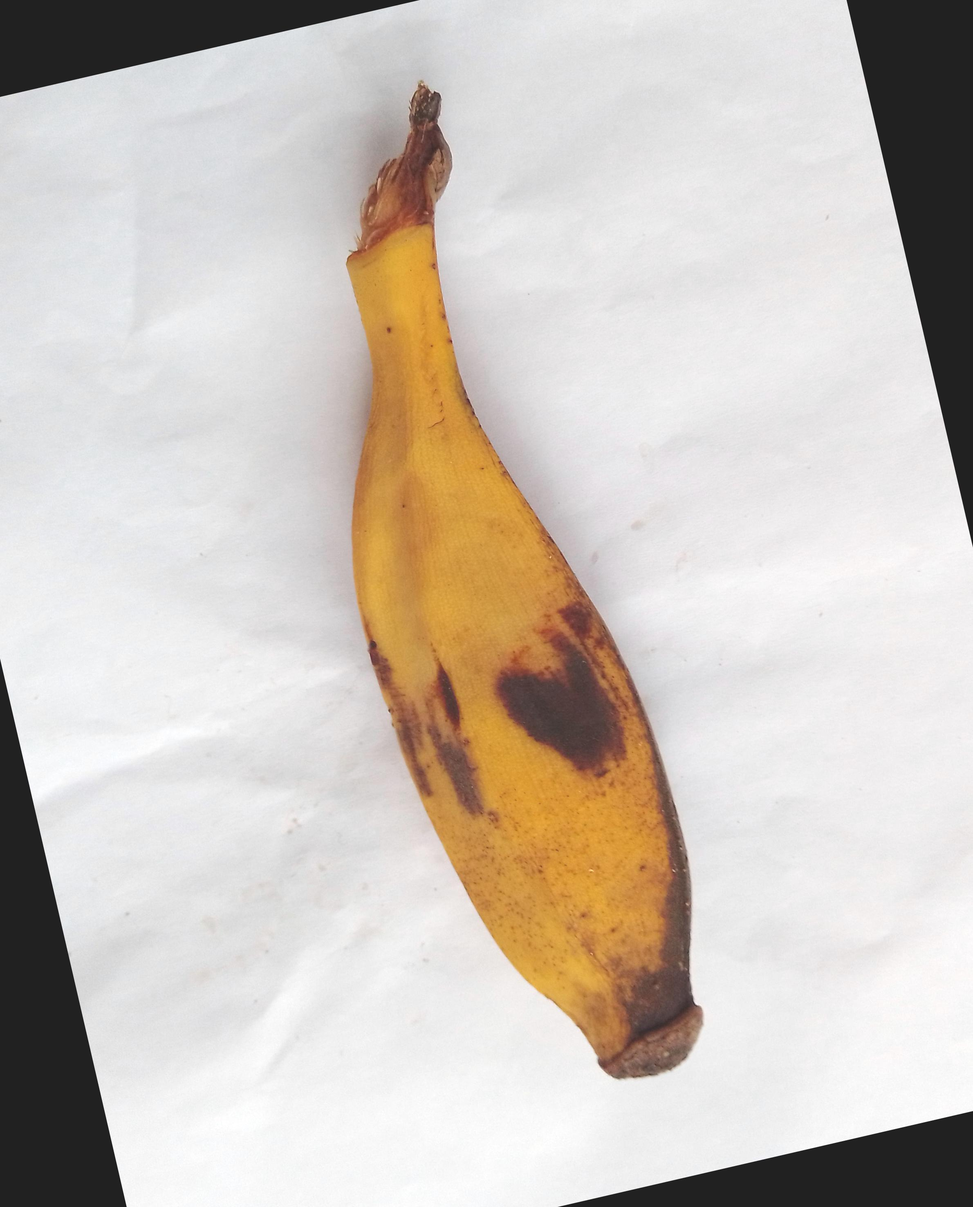Banana Ripe: (157, 344, 758, 1207)
